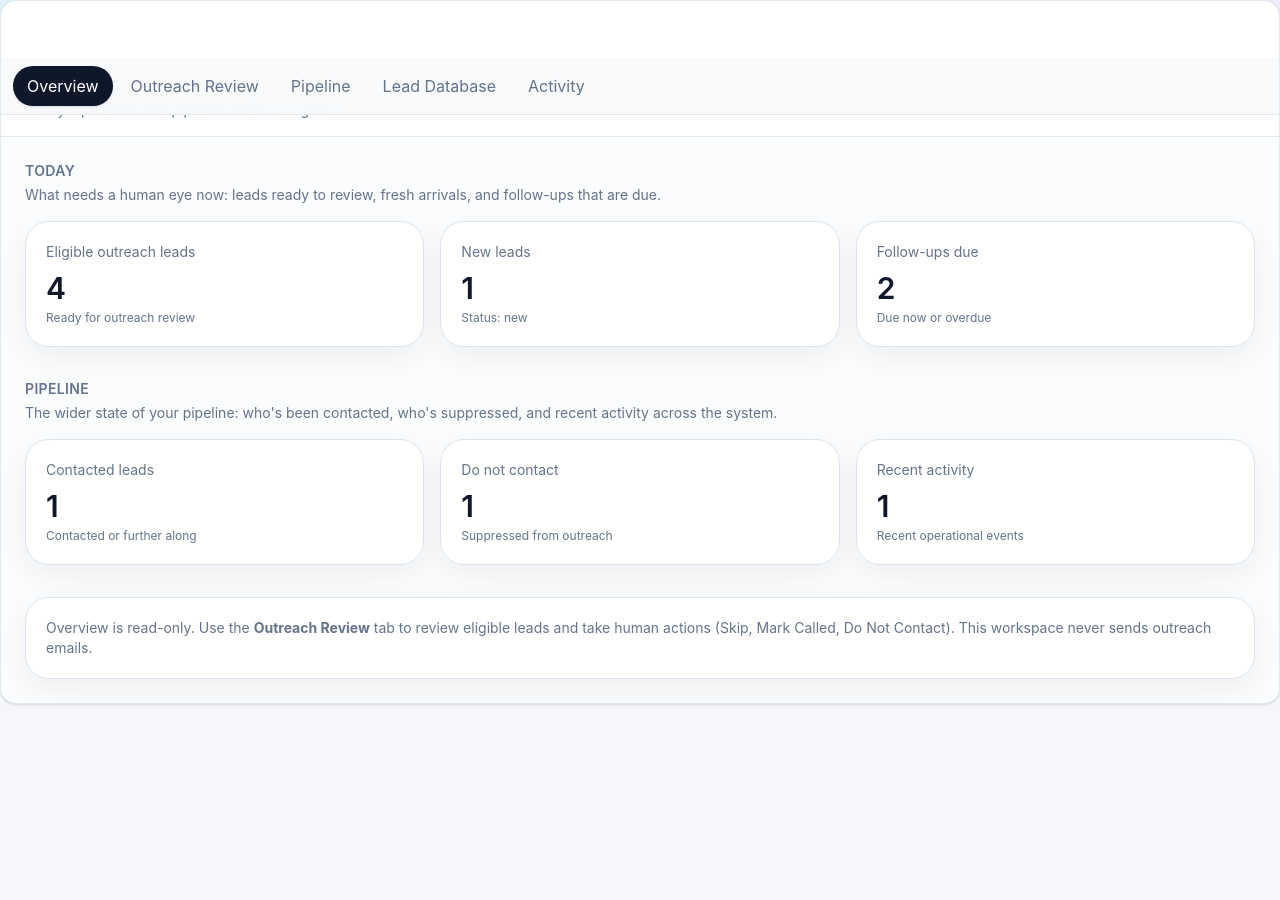
Scenario: SalesWorkspaceClient › switches tabs to Outreach Review and shows the preview-only warning
Expected: the text "Eligible outreach leads" is shown, [46, 243, 195, 260]
Click the tab "Outreach Review" at (195, 86), box [116, 66, 273, 106]
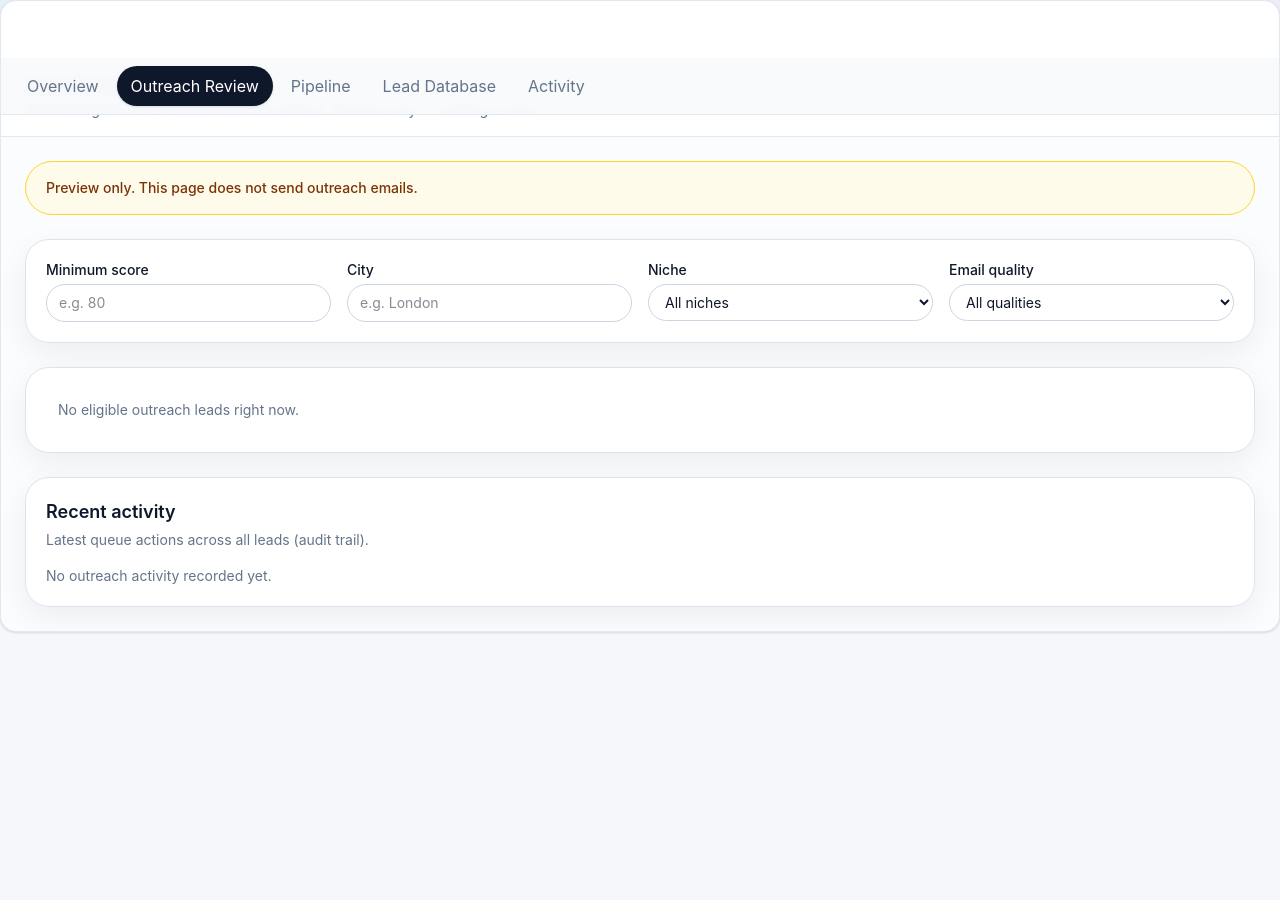
Result: the text "Preview only. This page does not send outreach emails." is shown at [25, 161, 1255, 215]
